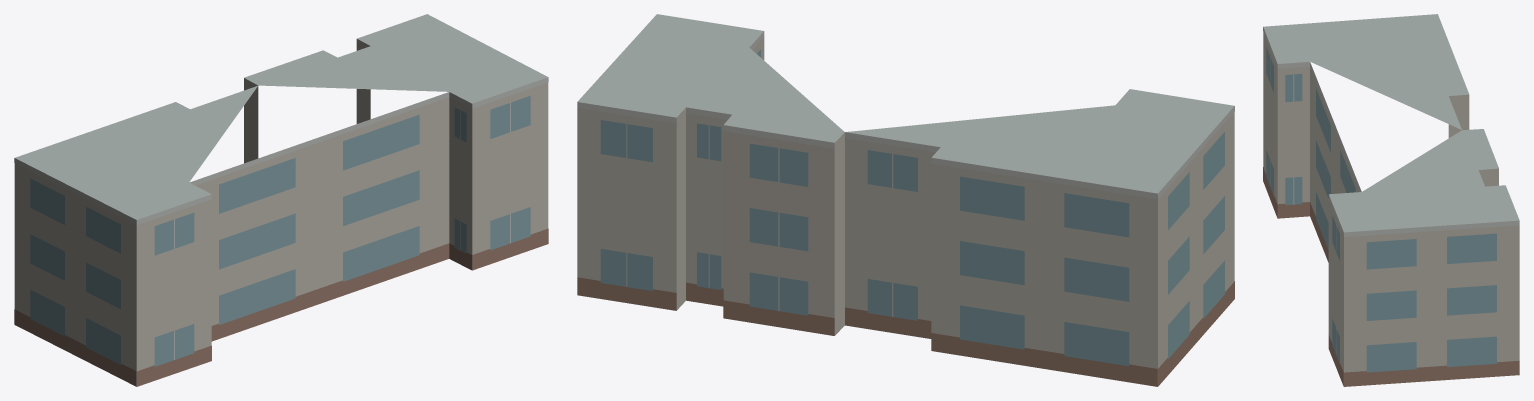
The model's file is survey-upis-32714476.glb.
3 renders of one model, left to right at view 1: azimuth 30°, elevation 25°; view 2: azimuth 150°, elevation 25°; view 3: azimuth 270°, elevation 25°, orthographic. The views are drawn at different scales.
Parts seen in each view (by area): view 1: survey-upis-32714476.tmp; view 2: survey-upis-32714476.tmp; view 3: survey-upis-32714476.tmp.
Part boxes in pixels (x1,y1,x2,y2): survey-upis-32714476.tmp: [14, 14, 548, 386]; survey-upis-32714476.tmp: [577, 14, 1234, 386]; survey-upis-32714476.tmp: [1263, 14, 1519, 386].
Bounding box in the file's own units: 24.26 × 8 × 12.05.
